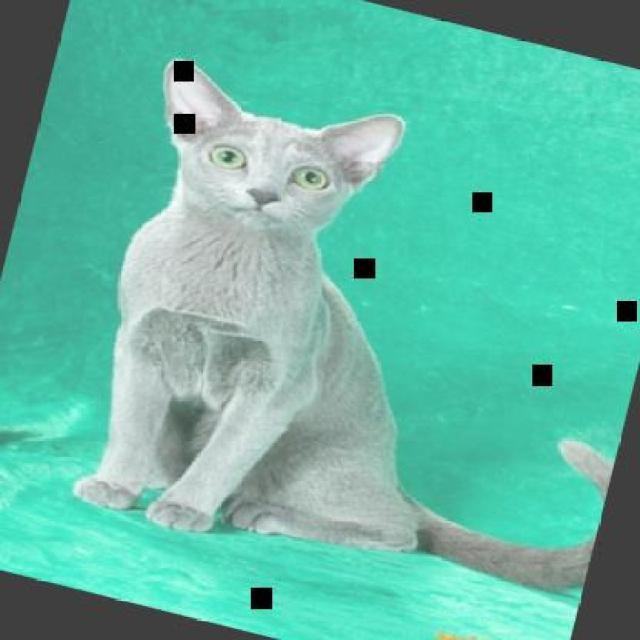cat: (56, 56, 638, 630)
